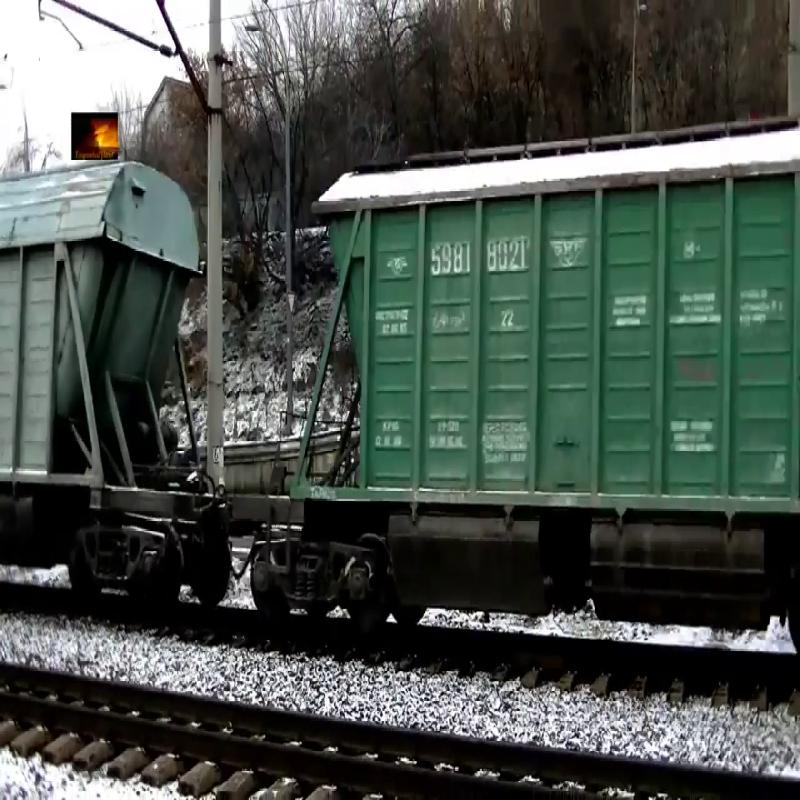train: (290, 107, 800, 616), (2, 146, 210, 530)
